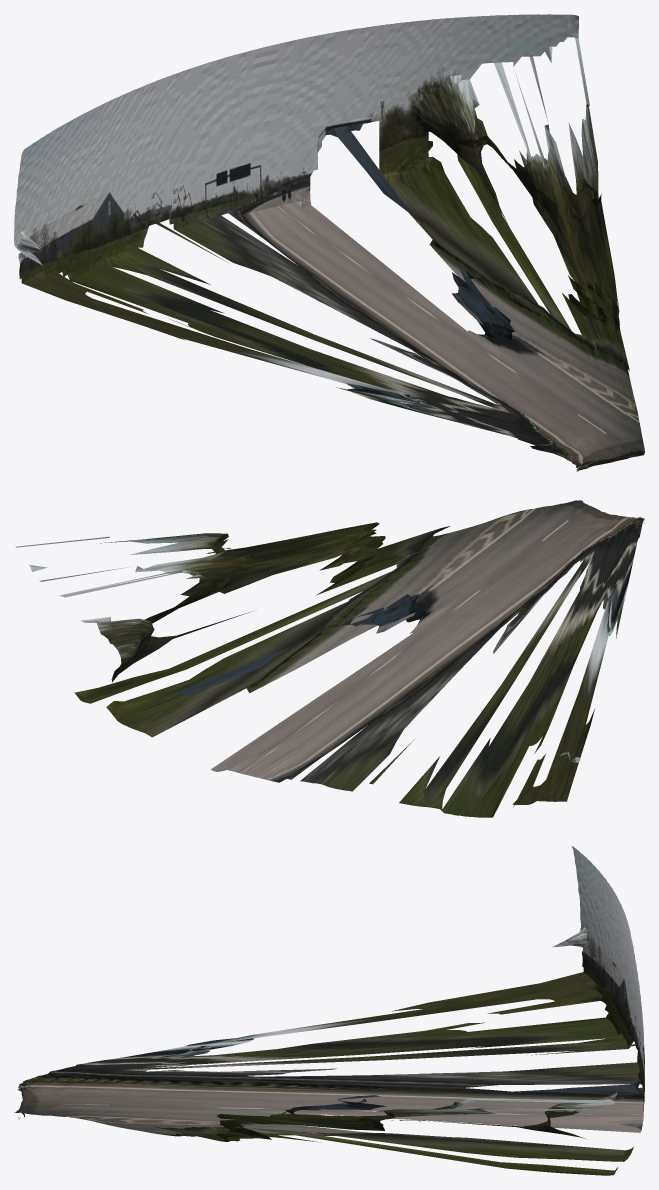
3 renders of one model, top to bottom at view 1: azimuth 30°, elevation 25°; view 2: azimuth 150°, elevation 25°; view 3: azimuth 270°, elevation 25°, orthographic. The views are drawn at different scales.
Parts seen in each view (by area): view 1: defaultobject; view 2: defaultobject; view 3: defaultobject.
Boxes of the visible parts, left/top/right/bottom form: defaultobject: left=14, top=14, right=644, bottom=471; defaultobject: left=16, top=500, right=644, bottom=817; defaultobject: left=14, top=846, right=644, bottom=1175.
Bounding box in the file's own units: 40.91 × 12.1 × 44.59.
1 material, 1 textured.
